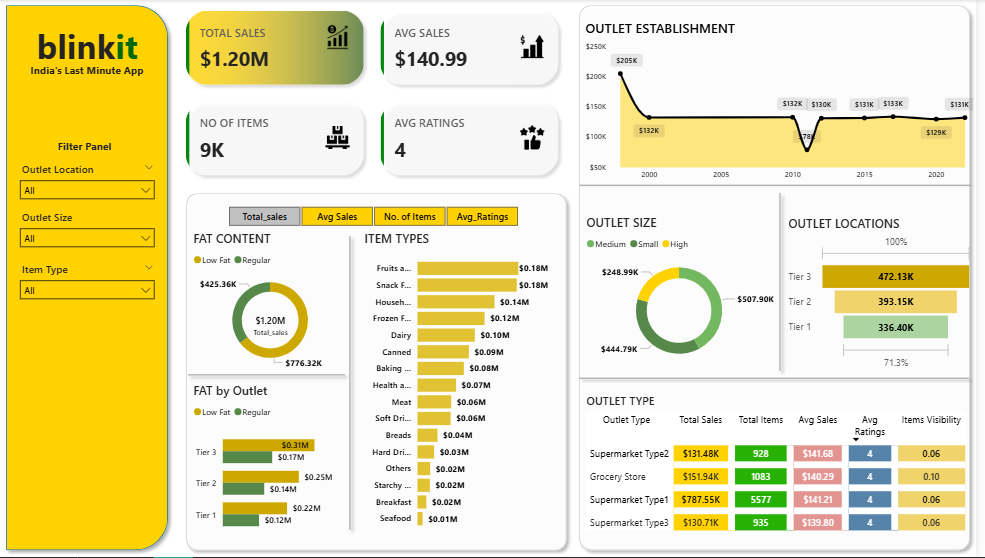

Layout of this report page (visuals, bound fields, positions):
{"tool":"powerbi","page":{"name":"Page 1","canvas":[1400,800],"ordinal":0},"visuals":[{"type":"shape","box":[0,0,249.9,799.2],"z":0},{"type":"textbox","box":[38.3,28.3,173.3,75],"z":1000},{"type":"textbox","box":[31.7,86.7,186.7,33.3],"z":2000},{"type":"cardVisual","fields":{"Data":["BlinkIT Grocery Data.Total_sales","BlinkIT Grocery Data.Avg Sales","BlinkIT Grocery Data.No. of Items","BlinkIT Grocery Data.Avg_Ratings"]},"box":[249.9,0,569.6,270.1],"z":3000},{"type":"shape","box":[257.4,269.5,563,529.9],"z":4000},{"type":"donutChart","title":"FAT CONTENT","fields":{"Y":["BlinkIT Grocery Data.Total_sales"],"Category":["BlinkIT Grocery Data.Item Fat Content"]},"box":[273.1,330.9,229.7,207.2],"z":5000},{"type":"slicer","fields":{"Values":["Metrics.Metrics"]},"box":[302,290.8,464.3,40.2],"z":6000},{"type":"cardVisual","fields":{"Data":["BlinkIT Grocery Data.Total_sales"]},"box":[324.5,430.5,128.5,75.5],"z":7000},{"type":"clusteredBarChart","title":"FAT by Outlet ","fields":{"Y":["BlinkIT Grocery Data.Total_sales"],"Category":["BlinkIT Grocery Data.Outlet Location Type"],"Series":["BlinkIT Grocery Data.Item Fat Content"]},"box":[272.5,549.5,228.8,231.8],"z":8000},{"type":"shape","box":[260.2,526.9,242.6,22.5],"z":9000},{"type":"shape","box":[483.5,330.9,36.9,438.6],"z":10000},{"type":"barChart","title":"ITEM TYPES","fields":{"Y":["BlinkIT Grocery Data.Total_sales"],"Category":["BlinkIT Grocery Data.Item Type"]},"box":[517.8,331.2,274,438.1],"z":11000},{"type":"shape","box":[821.9,0,578.1,799.4],"z":12000},{"type":"lineChart","title":" OUTLET ESTABLISHMENT ","fields":{"Category":["BlinkIT Grocery Data.Outlet Establishment Year"],"Y":["BlinkIT Grocery Data.Total_sales"]},"box":[834,28.6,566,240.9],"z":13000},{"type":"shape","box":[821.5,258.1,579.2,11.5],"z":14000},{"type":"donutChart","title":"OUTLET SIZE","fields":{"Y":["BlinkIT Grocery Data.Total_sales"],"Category":["BlinkIT Grocery Data.Outlet Size"]},"box":[835.5,308.6,275.5,225.8],"z":15000},{"type":"funnel","title":"OUTLET LOCATIONS","fields":{"Y":["Sum(BlinkIT Grocery Data.Total Sales)"],"Category":["BlinkIT Grocery Data.Outlet Location Type"]},"box":[1126,310.1,274,225.8],"z":16000},{"type":"pivotTable","title":"OUTLET TYPE","fields":{"Values":["BlinkIT Grocery Data.Total_sales","BlinkIT Grocery Data.No. of Items","BlinkIT Grocery Data.Avg Sales","BlinkIT Grocery Data.Avg_Ratings","Avg(BlinkIT Grocery Data.Item Visibility)"],"Rows":["BlinkIT Grocery Data.Outlet Type"]},"box":[835.7,564.3,564.3,205.7],"z":17000},{"type":"shape","box":[821.8,535.5,576.4,14.5],"z":17001},{"type":"shape","box":[1100,270,37.1,272.9],"z":17002},{"type":"slicer","fields":{"Values":["BlinkIT Grocery Data.Outlet Location Type"]},"box":[18.3,255.6,213.3,68.3],"z":17003},{"type":"slicer","fields":{"Values":["BlinkIT Grocery Data.Outlet Size"]},"box":[18.3,323.9,213.3,68.3],"z":17004},{"type":"slicer","fields":{"Values":["BlinkIT Grocery Data.Item Type"]},"box":[18.3,398.9,213.3,68.3],"z":17005},{"type":"textbox","box":[61.6,216.5,114.7,38.7],"z":17006}]}

Visuals, with their boxes in screenshot pixels (x1, y1, x2, y2), scaled from the page's 1400x800 canvas onto the 985x558 screenshot:
shape: [x1=0, y1=0, x2=176, y2=557]
textbox: [x1=27, y1=20, x2=149, y2=72]
textbox: [x1=22, y1=60, x2=154, y2=84]
cardVisual - BlinkIT Grocery Data.Total_sales x BlinkIT Grocery Data.Avg Sales: [x1=176, y1=0, x2=577, y2=188]
shape: [x1=181, y1=188, x2=577, y2=557]
"FAT CONTENT" donutChart: [x1=192, y1=231, x2=354, y2=375]
slicer - Metrics.Metrics: [x1=212, y1=203, x2=539, y2=231]
cardVisual - BlinkIT Grocery Data.Total_sales: [x1=228, y1=300, x2=319, y2=353]
"FAT by Outlet " clusteredBarChart: [x1=192, y1=383, x2=353, y2=545]
shape: [x1=183, y1=368, x2=354, y2=383]
shape: [x1=340, y1=231, x2=366, y2=537]
"ITEM TYPES" barChart: [x1=364, y1=231, x2=557, y2=537]
shape: [x1=578, y1=0, x2=984, y2=557]
" OUTLET ESTABLISHMENT " lineChart: [x1=587, y1=20, x2=984, y2=188]
shape: [x1=578, y1=180, x2=984, y2=188]
"OUTLET SIZE" donutChart: [x1=588, y1=215, x2=782, y2=373]
"OUTLET LOCATIONS" funnel: [x1=792, y1=216, x2=984, y2=374]
"OUTLET TYPE" pivotTable: [x1=588, y1=394, x2=984, y2=537]
shape: [x1=578, y1=374, x2=984, y2=384]
shape: [x1=774, y1=188, x2=800, y2=379]
slicer - BlinkIT Grocery Data.Outlet Location Type: [x1=13, y1=178, x2=163, y2=226]
slicer - BlinkIT Grocery Data.Outlet Size: [x1=13, y1=226, x2=163, y2=274]
slicer - BlinkIT Grocery Data.Item Type: [x1=13, y1=278, x2=163, y2=326]
textbox: [x1=43, y1=151, x2=124, y2=178]
